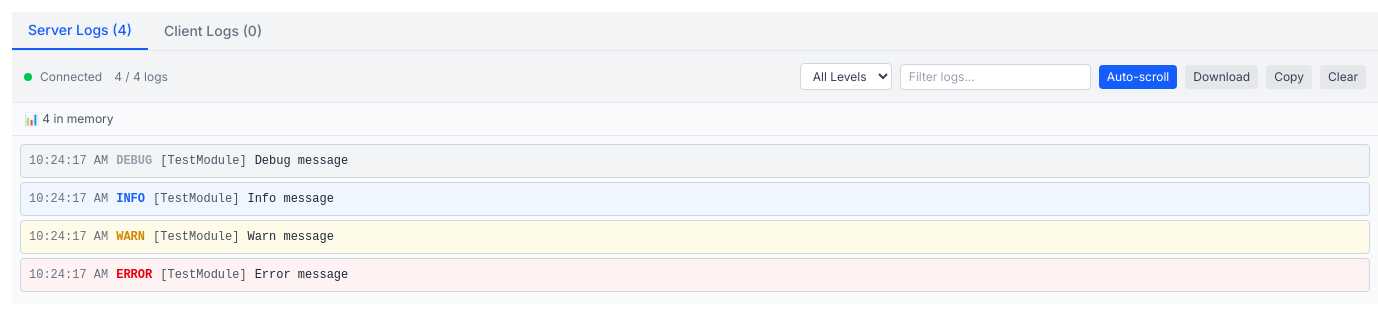
LogViewer Regression Tests › Filtering › level filter filters by debug/info/warn/error
Expected: the text "Debug message" is shown, x1=255 y1=154 x2=348 y2=168
Expected: the text "Info message" is shown, x1=248 y1=192 x2=334 y2=206
Filter to 'info' only
Select "Info" in the dropdown at {"x": 846, "y": 76}, box x1=800 y1=63 x2=892 y2=90
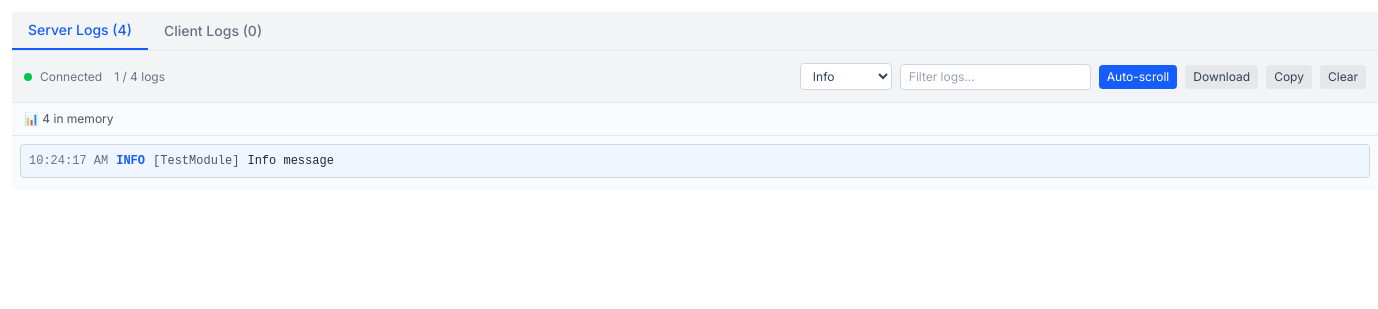
Result: the text "Debug message" is gone
Result: the text "Info message" is shown at x1=248 y1=154 x2=334 y2=168
Result: the text "Warn message" is gone
